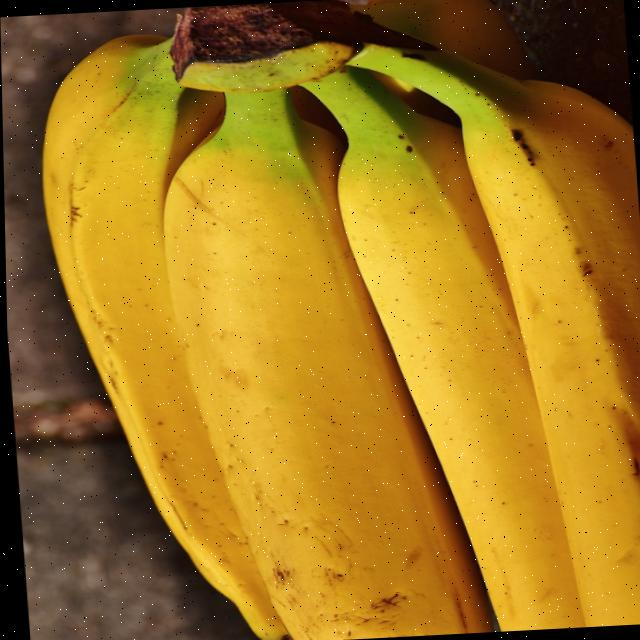Banana: (163, 88, 488, 640), (348, 43, 640, 627), (304, 66, 582, 632), (42, 34, 288, 640)
